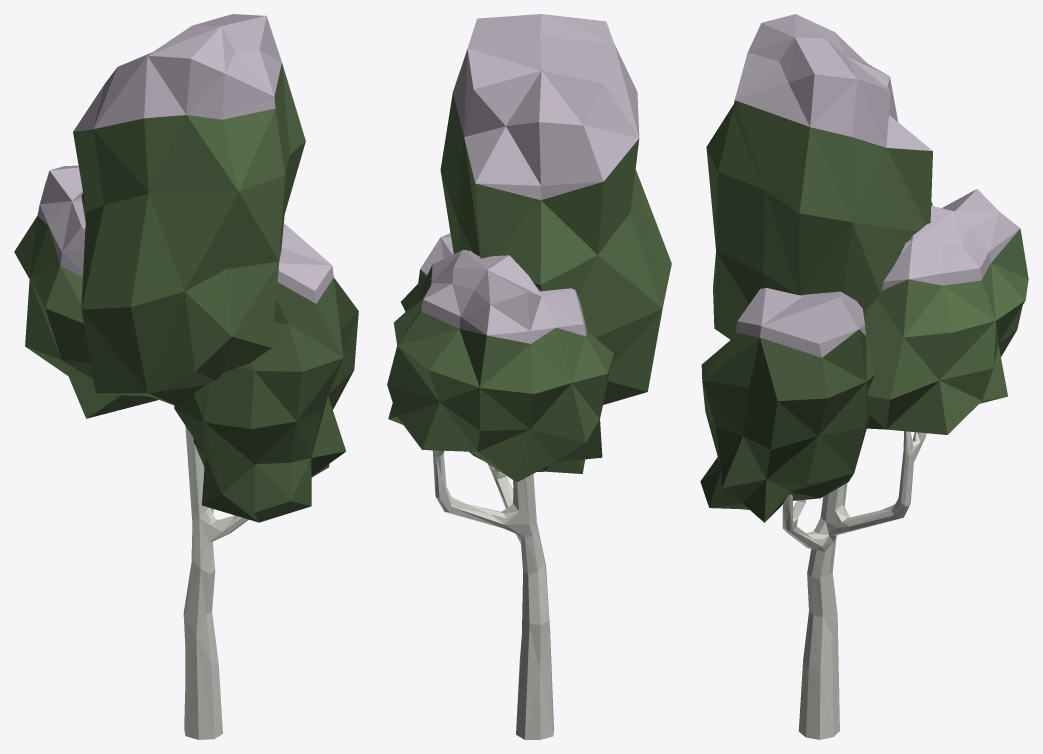
File: BirchTree_Snow_3.lod1.glb
3 renders of one model, left to right at view 1: azimuth 30°, elevation 25°; view 2: azimuth 150°, elevation 25°; view 3: azimuth 270°, elevation 25°, orthographic. The views are drawn at different scales.
Parts seen in each view (by area): view 1: BirchTree_Snow_3; view 2: BirchTree_Snow_3; view 3: BirchTree_Snow_3.
Part boxes in pixels (left/top/right/bottom): BirchTree_Snow_3: left=14, top=14, right=358, bottom=739; BirchTree_Snow_3: left=387, top=14, right=671, bottom=739; BirchTree_Snow_3: left=700, top=14, right=1028, bottom=739.
Size of the model in its own units: 1.58 by 4.15 by 1.77.
